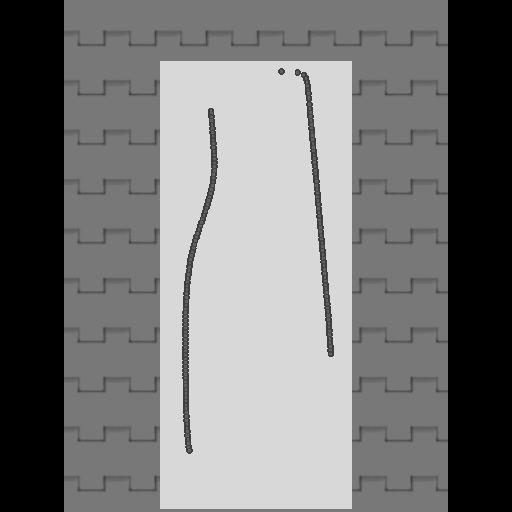Defect: (186, 356, 337, 494)
